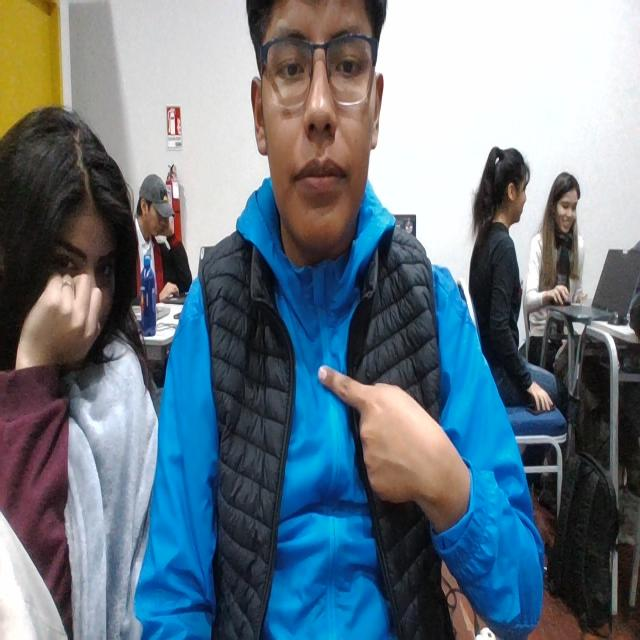i: (315, 355, 457, 538)
